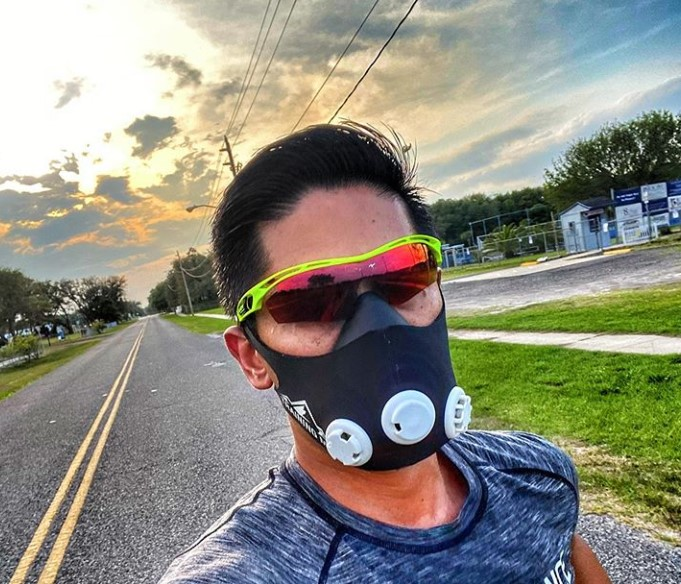face_with_mask: (220, 132, 477, 474)
